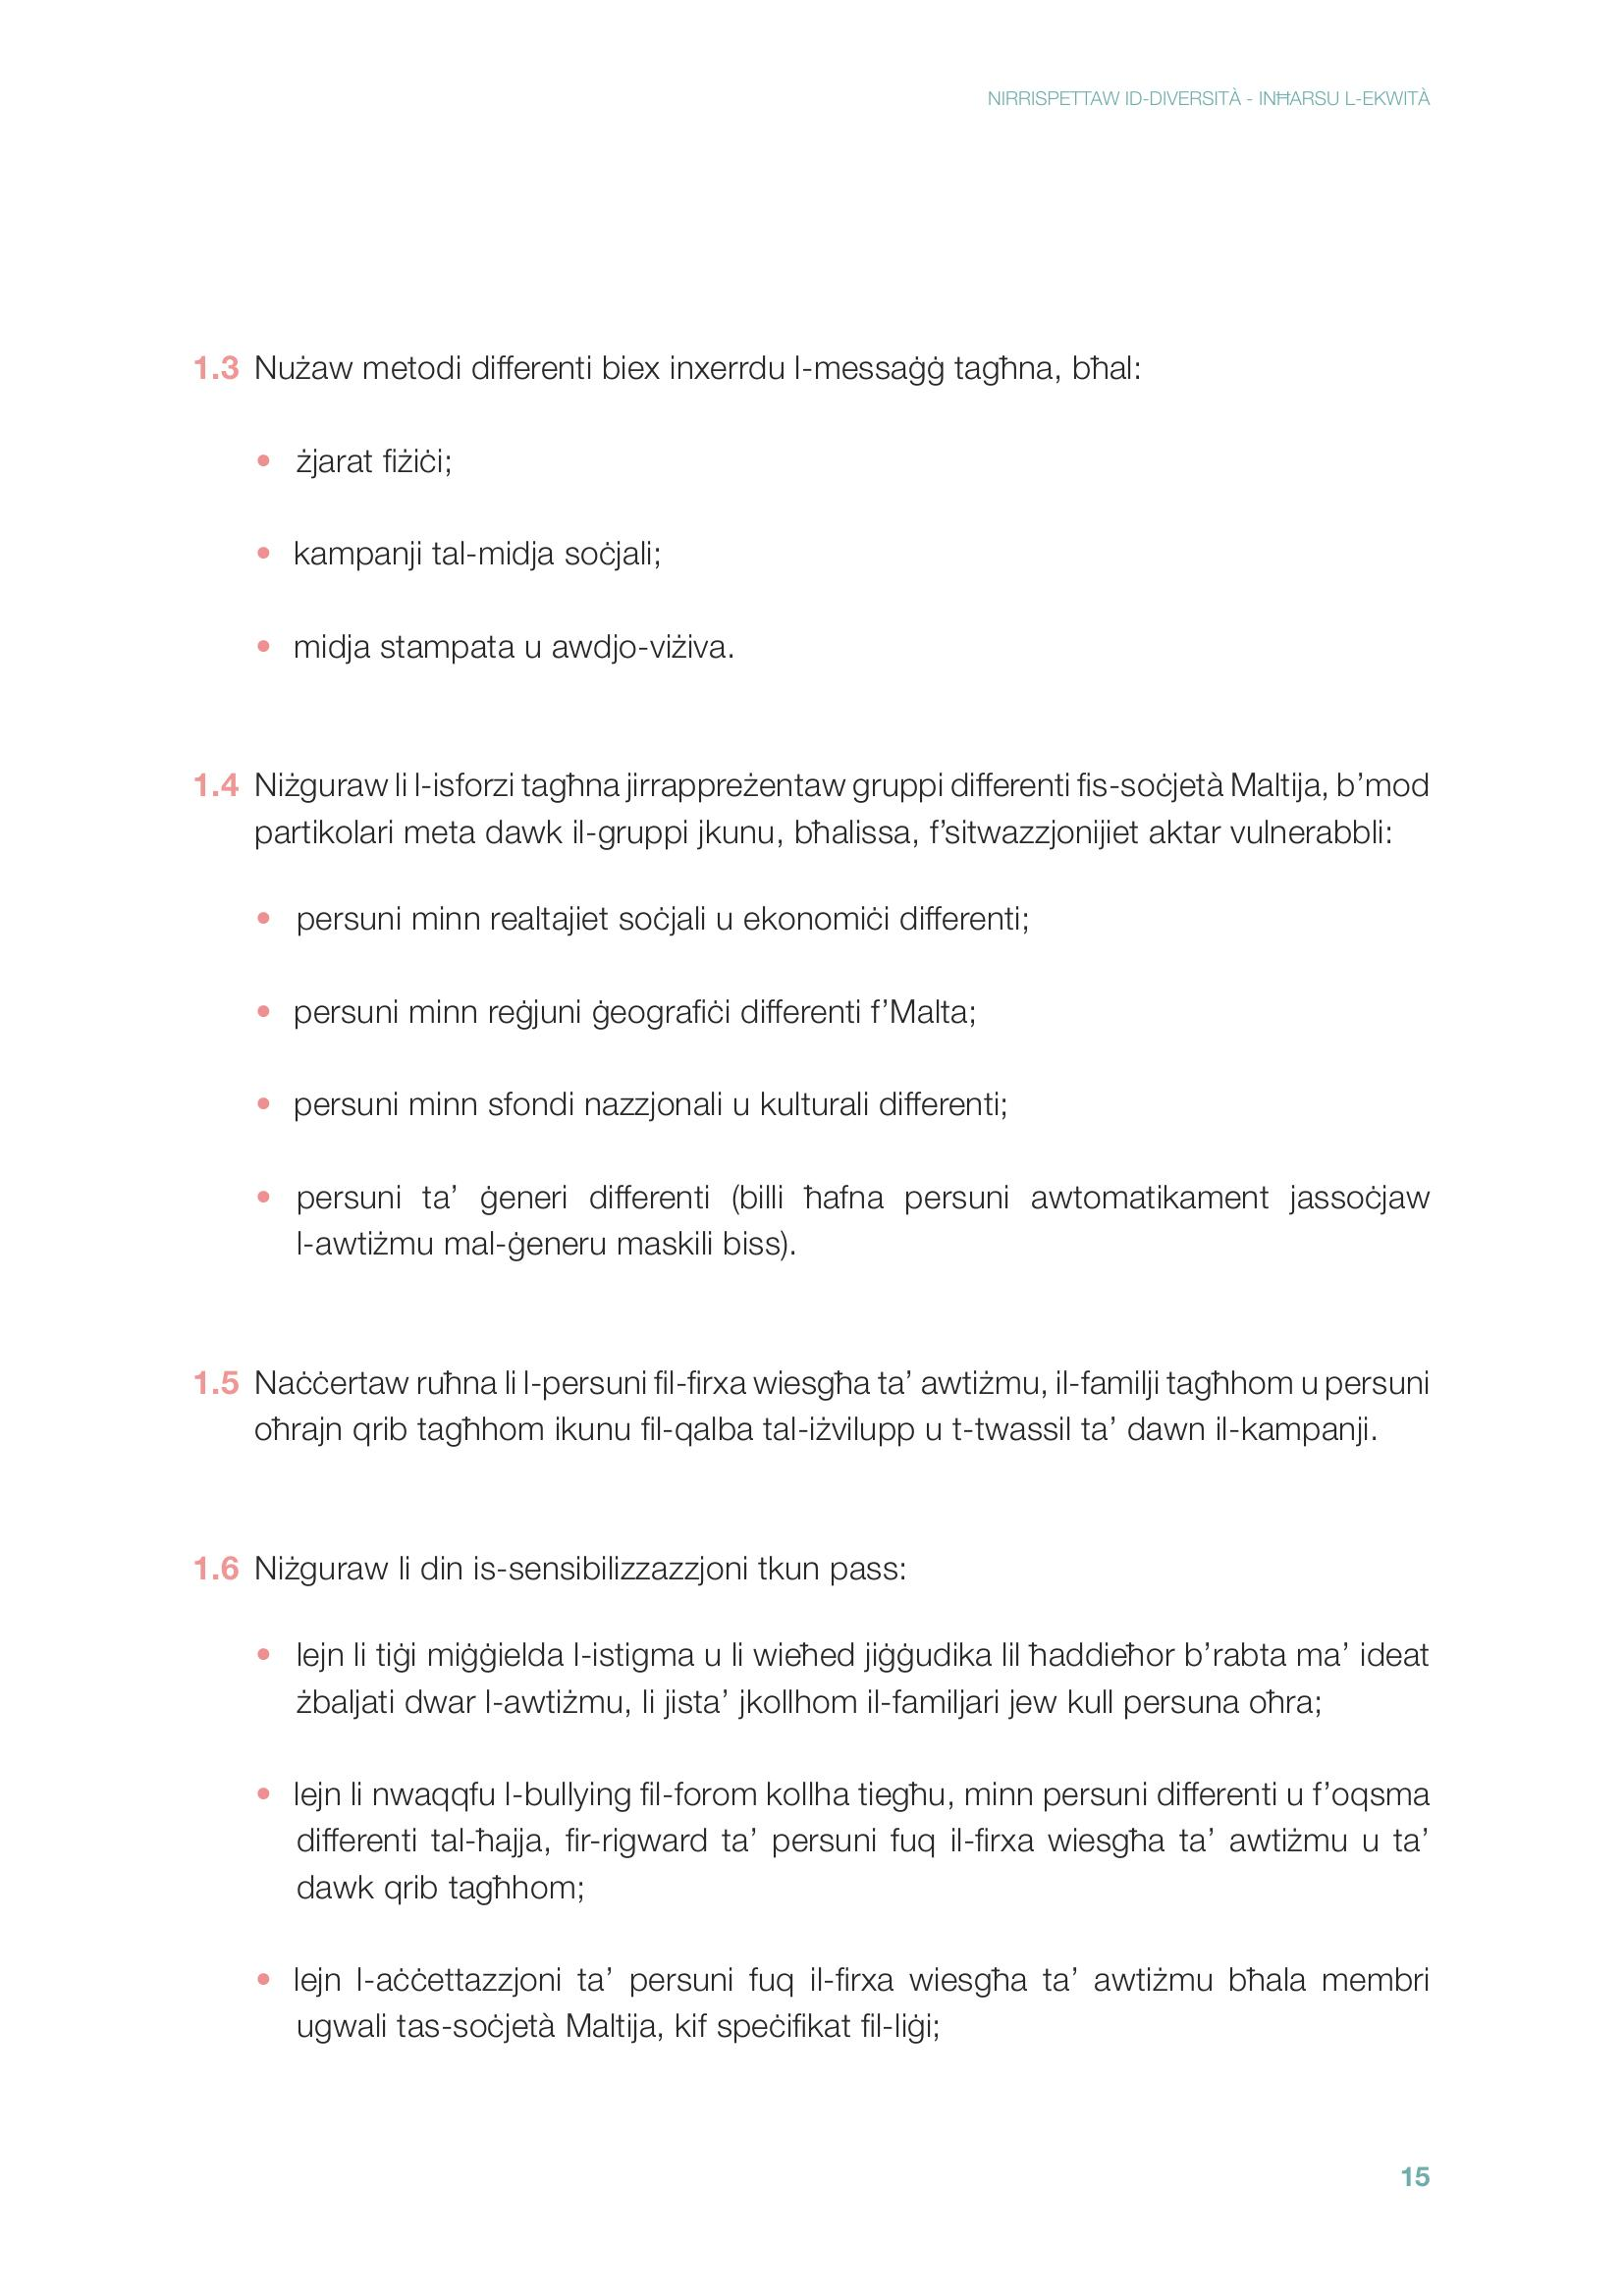text: (169, 334, 1450, 2068)
